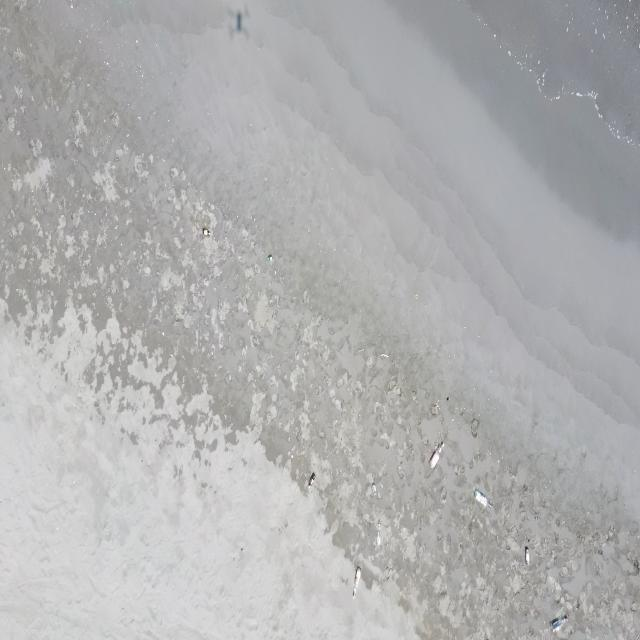glass: (428, 442, 445, 470), (474, 489, 492, 508), (550, 616, 568, 634), (353, 568, 362, 599), (376, 521, 382, 549), (308, 472, 316, 490), (524, 548, 530, 566), (371, 482, 378, 497), (202, 228, 211, 236), (267, 255, 274, 262)
